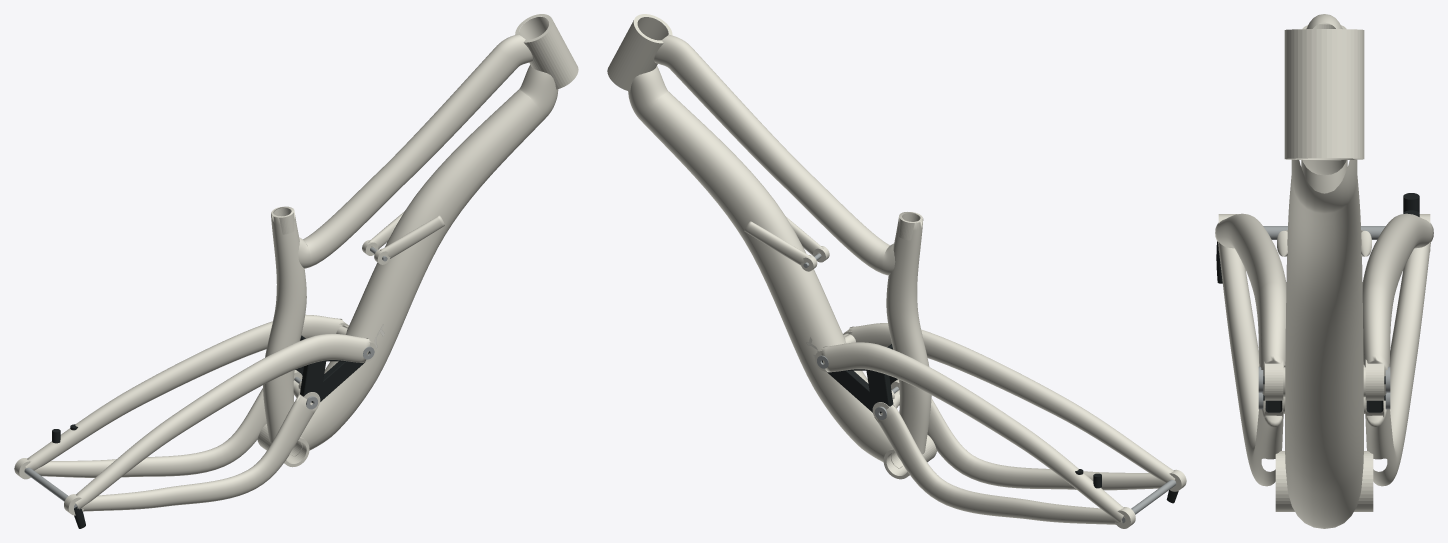
The model's file is yt-tues-mk4-carbon--l.glb.
The picture shows the model from 3 angles, left to right: view 1: azimuth 30°, elevation 25°; view 2: azimuth 150°, elevation 25°; view 3: azimuth 270°, elevation 25°; orthographic projection. The views are drawn at different scales.
Parts seen in each view (by area): view 1: yt-tues-mk4-carbon__paint_0, yt-tues-mk4-carbon__detail_1, yt-tues-mk4-carbon__detail_2; view 2: yt-tues-mk4-carbon__paint_0, yt-tues-mk4-carbon__detail_1, yt-tues-mk4-carbon__detail_2; view 3: yt-tues-mk4-carbon__paint_0, yt-tues-mk4-carbon__detail_1, yt-tues-mk4-carbon__detail_2.
Boxes of the visible parts, x1=… form: yt-tues-mk4-carbon__paint_0: x1=14, y1=14, x2=578, y2=515; yt-tues-mk4-carbon__detail_1: x1=52, y1=335, x2=369, y2=528; yt-tues-mk4-carbon__detail_2: x1=24, y1=247, x2=387, y2=507; yt-tues-mk4-carbon__paint_0: x1=607, y1=14, x2=1186, y2=528; yt-tues-mk4-carbon__detail_1: x1=822, y1=344, x2=1178, y2=503; yt-tues-mk4-carbon__detail_2: x1=803, y1=253, x2=1176, y2=523; yt-tues-mk4-carbon__paint_0: x1=1215, y1=14, x2=1433, y2=528; yt-tues-mk4-carbon__detail_1: x1=1216, y1=193, x2=1419, y2=412; yt-tues-mk4-carbon__detail_2: x1=1258, y1=226, x2=1390, y2=409.
Bounding box in the file's own units: 1.02 × 0.7092 × 0.1863.
Materials: 5 (2 with a texture image).
